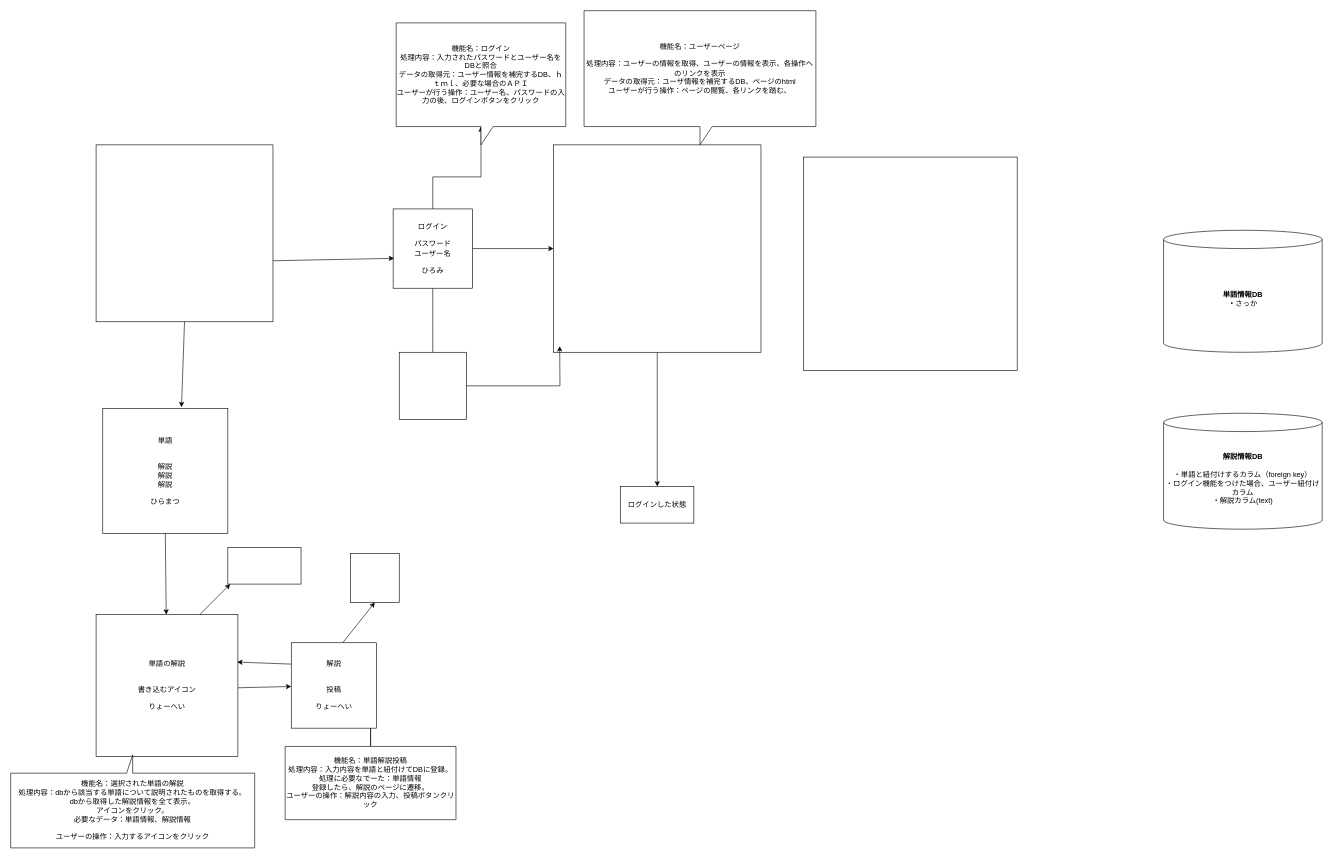
Some shapes in this 1333 by 859 pixel diagram are drawn without their labels. The centre of each missing label's shape, as x and y in pixels:
dbへ検索: point 264,565
dbへ登録: point 374,577
ホーム画面 検索窓 単語がずらり ひらまつ: point 184,233
ユーザーページ ユーザー名 過去の投稿一覧 ログアウト s: point 657,248
機能名 処理内容 処理に必要なデータ データの取得元 ユーザーが行い操作: point 910,263
登録画面 名前 パスワード e-mail twitter,google API: point 432,385
